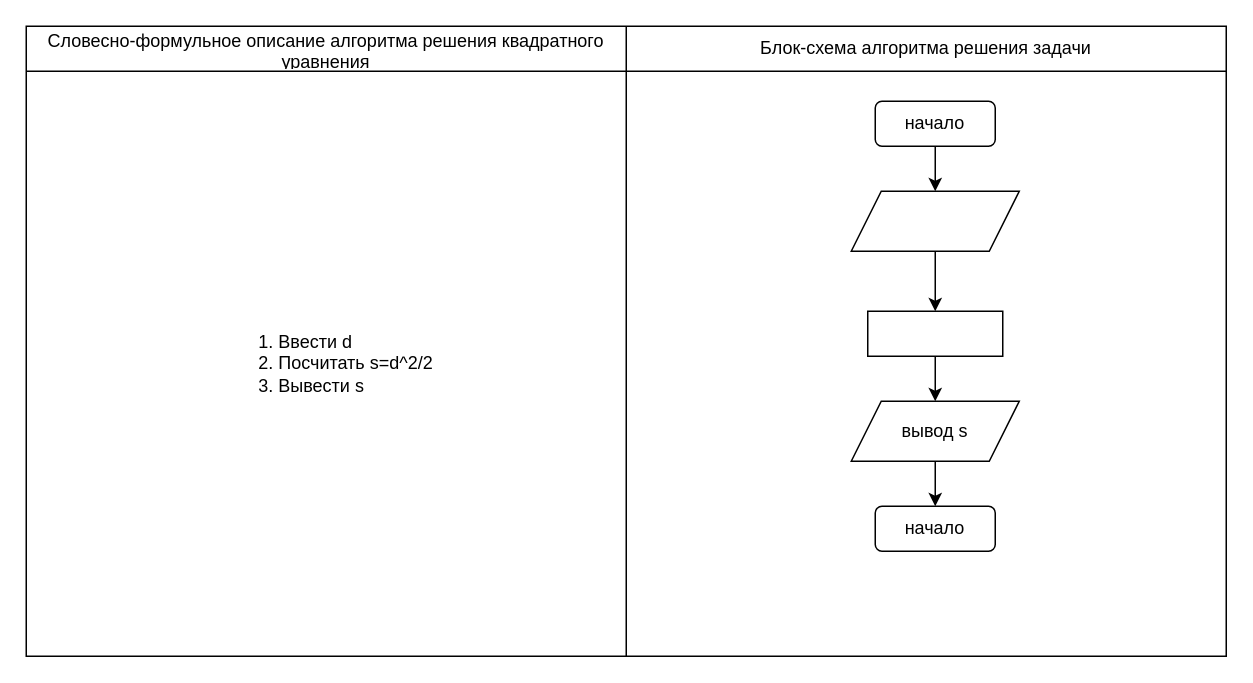
This 1253x683 diagram has some shape labels left out. The centre of each missing label's shape, as x and y in pixels:
"s=d^2/2" goes at (934,333).
"ввод d" goes at (934,220).
